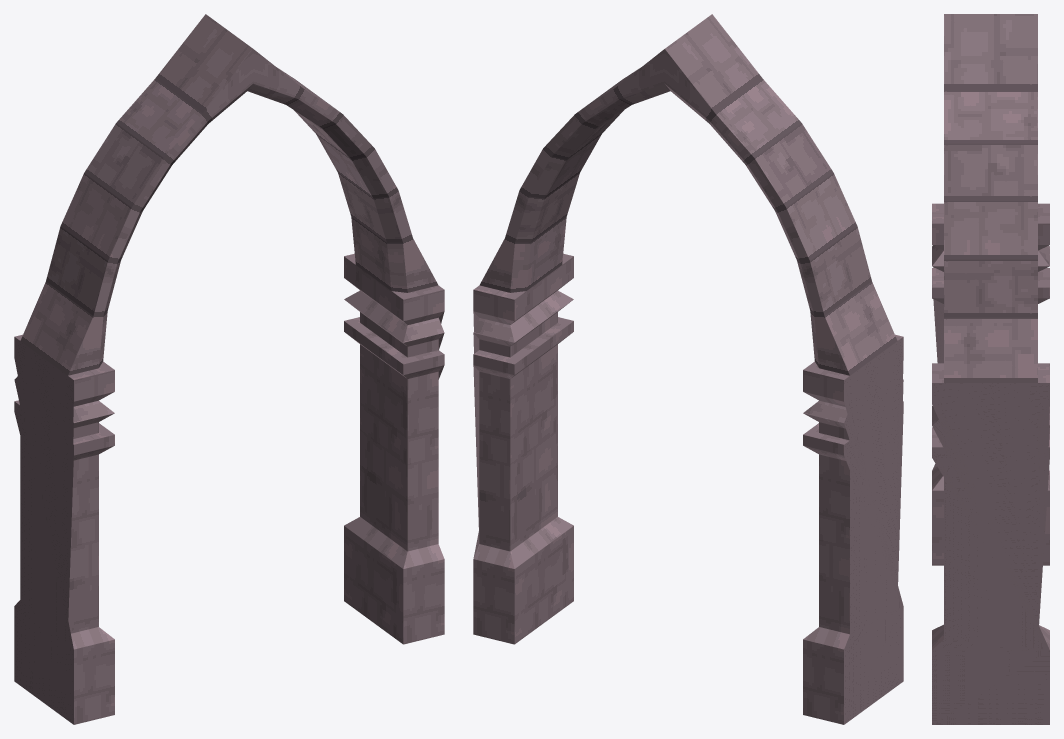
The model's file is deckenbogen_c.glb.
3 renders of one model, left to right at view 1: azimuth 30°, elevation 25°; view 2: azimuth 150°, elevation 25°; view 3: azimuth 270°, elevation 25°, orthographic.
Visible parts, largest first — view 1: bogen, pfeiler_l, pfeiler_r; view 2: bogen, pfeiler_r, pfeiler_l; view 3: pfeiler_r, bogen, pfeiler_l.
Part boxes in pixels (x1,y1,x2,y2): bogen: (20, 14, 438, 375); pfeiler_l: (14, 334, 114, 724); pfeiler_r: (344, 253, 444, 644); bogen: (479, 14, 897, 375); pfeiler_r: (473, 253, 573, 644); pfeiler_l: (803, 334, 903, 724); pfeiler_r: (932, 363, 1049, 724); bogen: (944, 14, 1037, 382); pfeiler_l: (932, 203, 1049, 565).
Bounding box in the file's own units: 2.25 × 3.63 × 0.625.
Materials: 1 (1 with a texture image).
